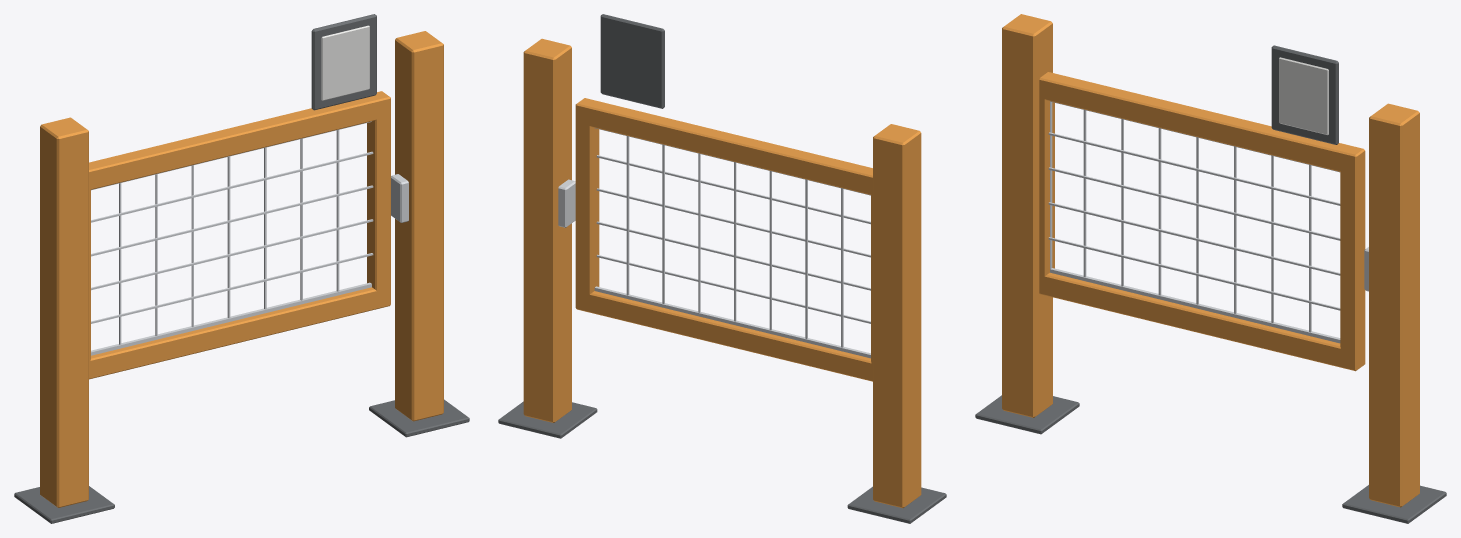
File: aisle-entry-gate.glb
The picture shows the model from 3 angles, left to right: view 1: azimuth 30°, elevation 25°; view 2: azimuth 150°, elevation 25°; view 3: azimuth 330°, elevation 25°; orthographic projection. The views are drawn at different scales.
Visible parts, largest first — view 1: aisle-entry-gate, aisle-gate/accent, aisle-gate/metal; view 2: aisle-entry-gate, aisle-gate/accent, aisle-gate/metal; view 3: aisle-entry-gate, aisle-gate/accent, aisle-gate/metal.
Part boxes in pixels (x1,y1,x2,y2): aisle-entry-gate: (14,14,469,523); aisle-gate/accent: (89,91,390,379); aisle-gate/metal: (91,121,373,355); aisle-entry-gate: (498,14,946,523); aisle-gate/accent: (575,98,872,381); aisle-gate/metal: (594,128,870,358); aisle-entry-gate: (975,14,1446,523); aisle-gate/accent: (1039,72,1365,371); aisle-gate/metal: (1048,101,1340,343).
Size of the model in its own units: 1.3 by 1.24 by 0.2.
